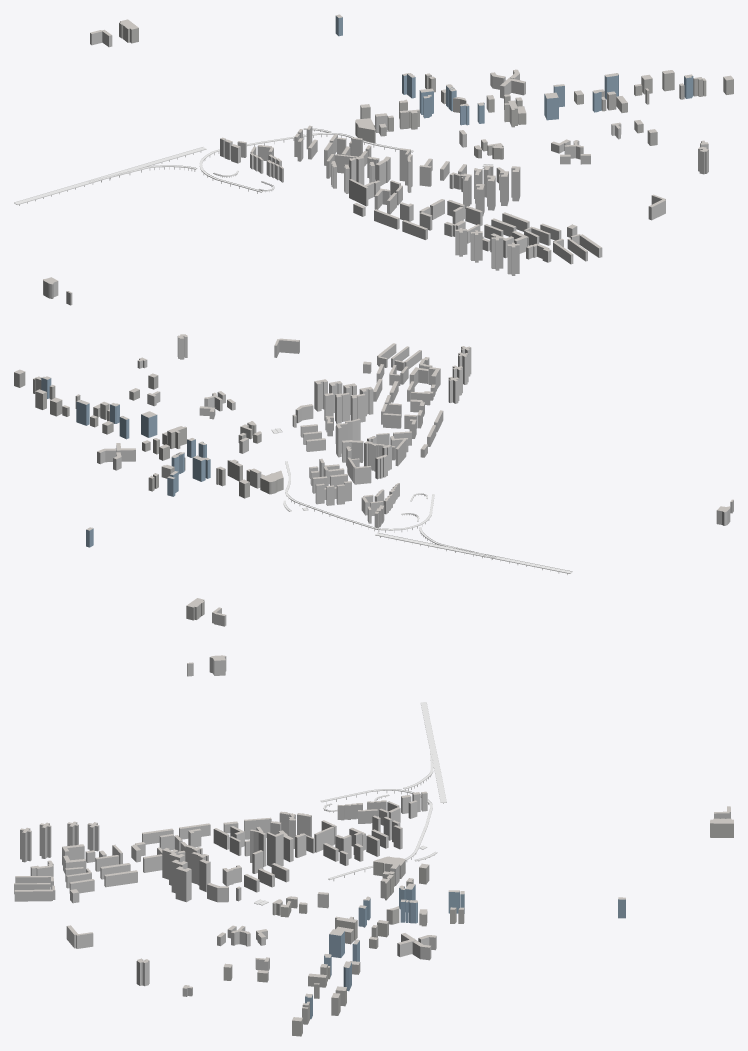
File: far_ring.glb
The picture shows the model from 3 angles, top to bottom: view 1: azimuth 30°, elevation 25°; view 2: azimuth 150°, elevation 25°; view 3: azimuth 270°, elevation 25°; orthographic projection. The views are drawn at different scales.
Parts seen in each view (by area): view 1: far_ring; view 2: far_ring; view 3: far_ring.
Boxes of the visible parts, x1,y1,x2,y2 form: far_ring: [14, 14, 733, 305]; far_ring: [14, 334, 733, 626]; far_ring: [14, 655, 733, 1036].
Bounding box in the file's own units: 2655 × 109 × 2208.
